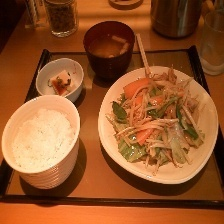rice: (7, 106, 78, 173)
